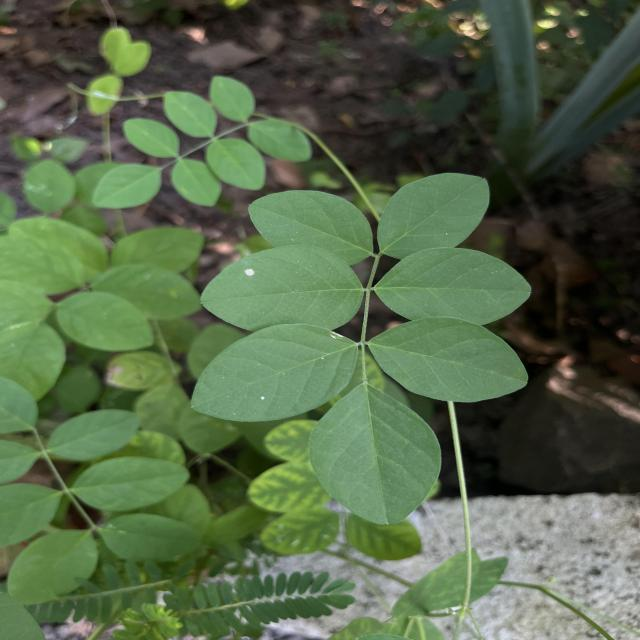Clitoria ternatea: (307, 383, 443, 526), (190, 322, 359, 424), (200, 243, 366, 334), (366, 314, 530, 403), (372, 246, 533, 326), (376, 172, 492, 262), (248, 190, 374, 266)
